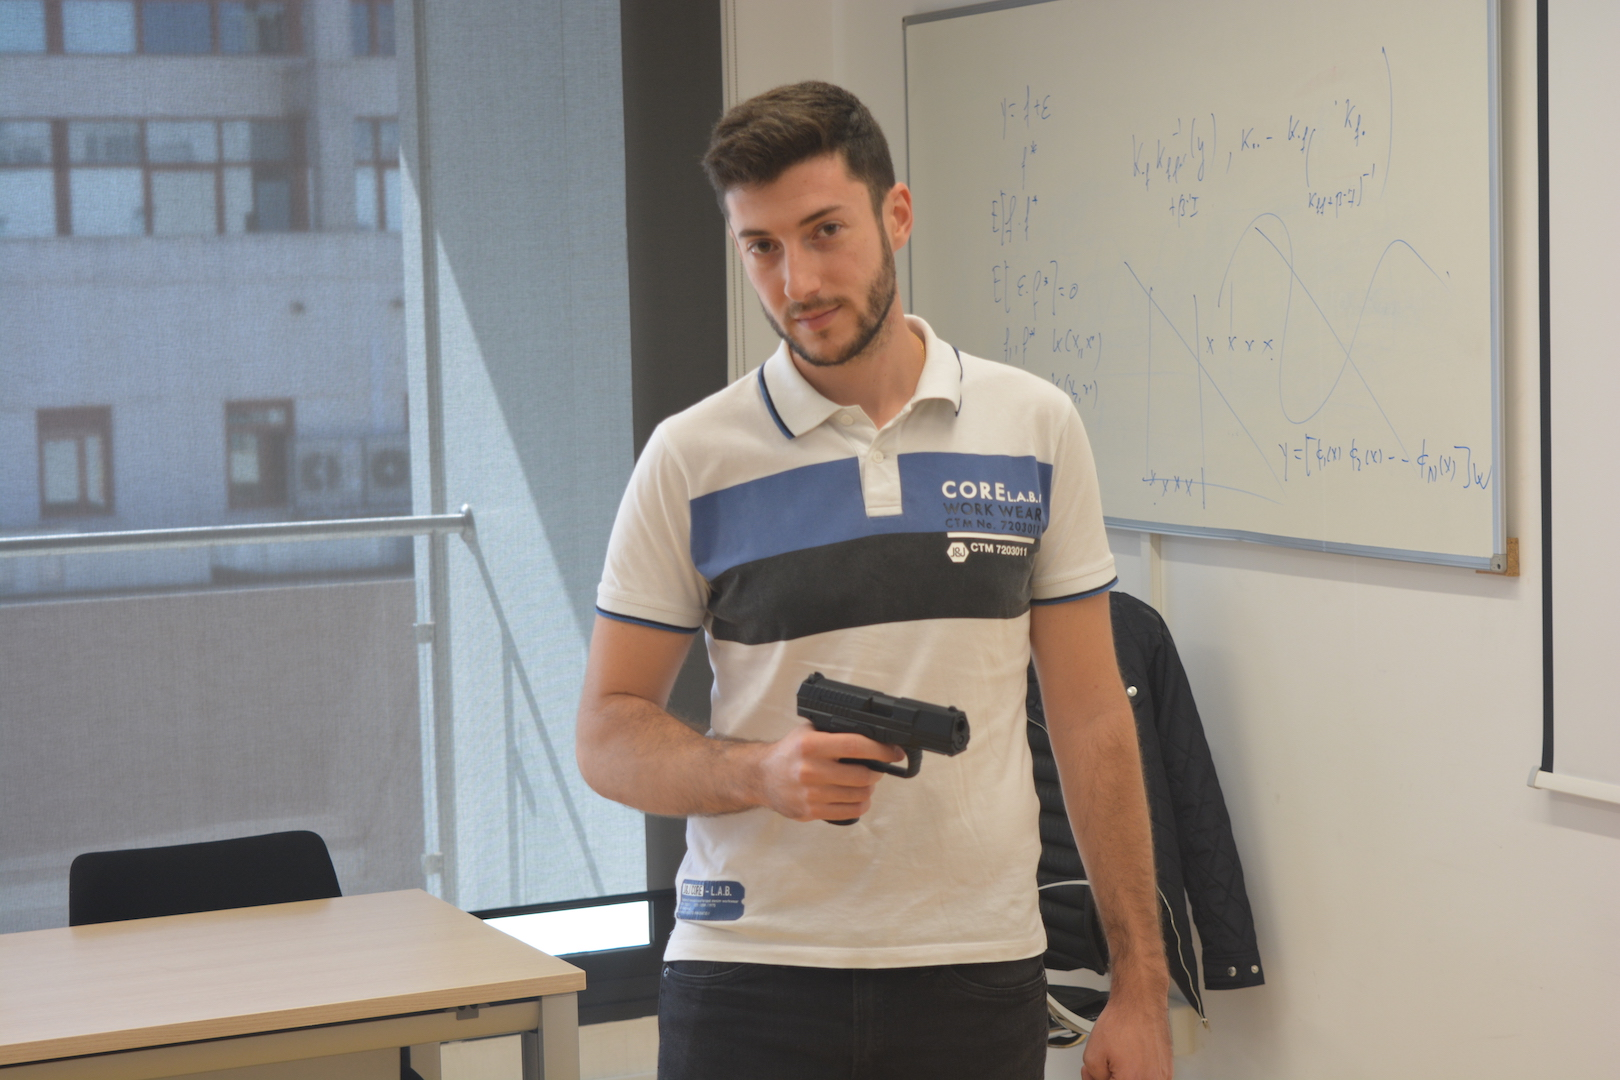pistol: (796, 670, 972, 827)
